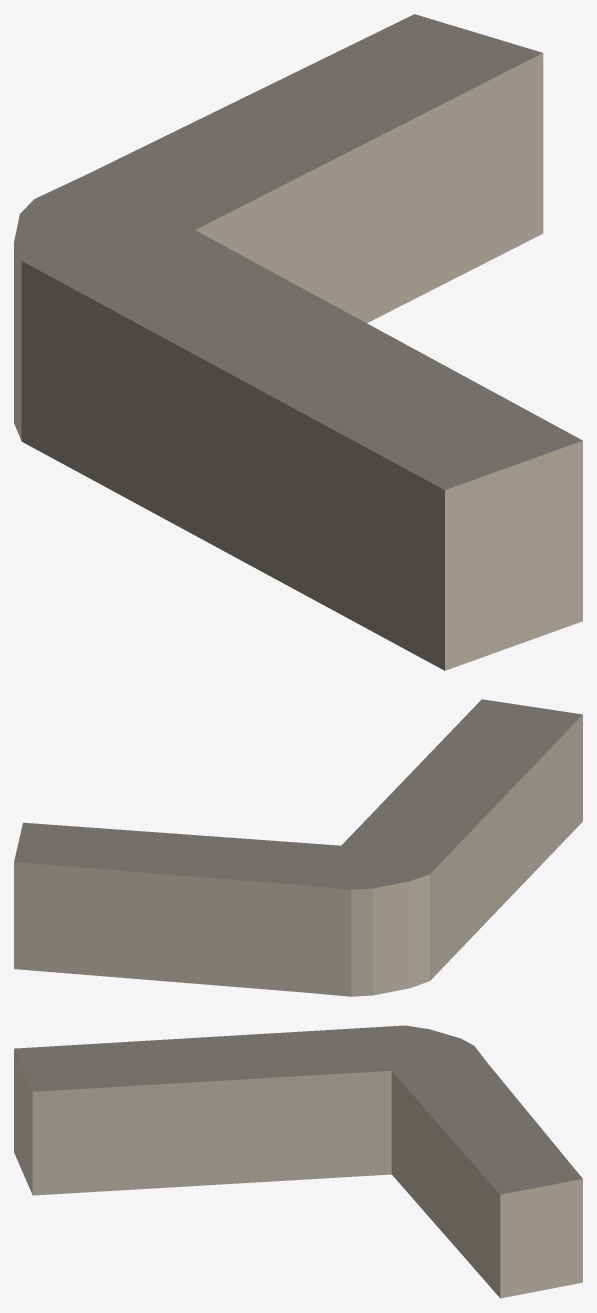
3 views of the same model, one above another, from view 1: azimuth 30°, elevation 25°; view 2: azimuth 150°, elevation 25°; view 3: azimuth 270°, elevation 25° (orthographic). The views are drawn at different scales.
Visible parts, largest first — view 1: HP-w369317446; view 2: HP-w369317446; view 3: HP-w369317446.
Boxes of the visible parts, <box> form: HP-w369317446: <box>14,14,582,670</box>; HP-w369317446: <box>14,699,582,996</box>; HP-w369317446: <box>14,1025,582,1298</box>.
Bounding box in the file's own units: 52.5 × 15 × 74.56.
